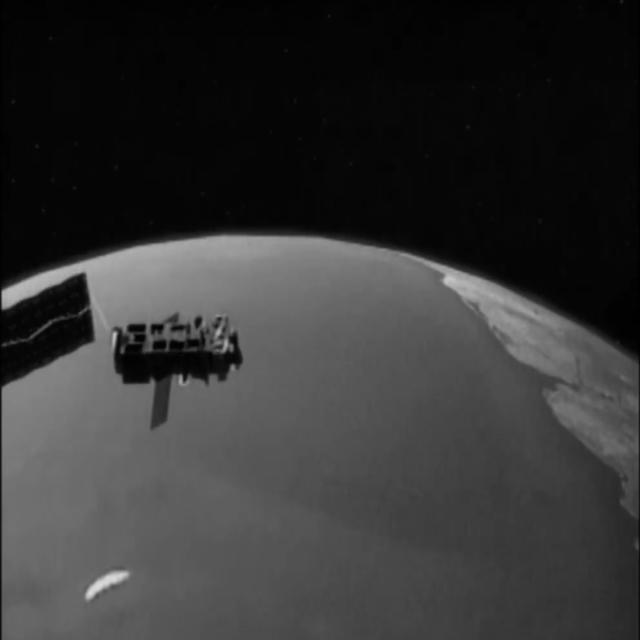satellite: (105, 264, 252, 453)
